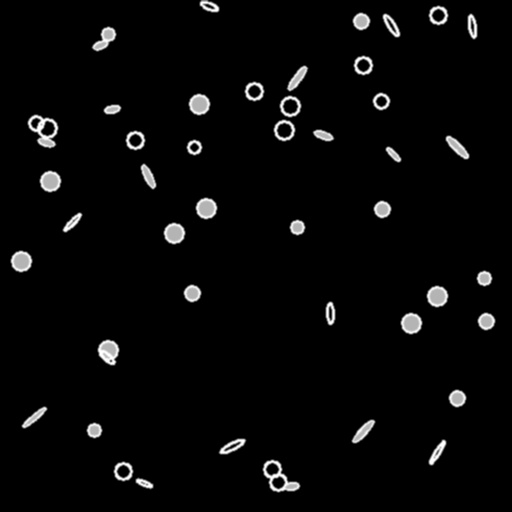pseudomonas: (444, 134, 470, 160), (285, 64, 309, 92), (351, 418, 375, 444), (21, 406, 47, 428), (219, 437, 245, 455), (428, 439, 446, 465), (382, 13, 400, 37), (140, 163, 156, 189), (62, 212, 82, 232), (98, 348, 116, 366), (385, 146, 401, 162), (199, 0, 219, 12), (467, 15, 477, 37), (135, 477, 153, 489), (37, 136, 55, 148), (314, 129, 332, 141), (92, 39, 108, 51), (104, 104, 120, 114), (283, 482, 299, 490), (327, 303, 333, 323)
synechocystis: (428, 287, 446, 305), (99, 341, 117, 359), (281, 97, 299, 115), (402, 314, 420, 332), (165, 224, 183, 242), (38, 119, 56, 137), (275, 121, 293, 139), (12, 252, 30, 270), (197, 199, 215, 217), (41, 172, 59, 190), (190, 95, 208, 113), (264, 461, 280, 477), (355, 57, 371, 73), (127, 132, 143, 148), (430, 7, 446, 23), (115, 463, 131, 479), (246, 83, 262, 99), (270, 474, 286, 490), (185, 286, 199, 300), (479, 314, 493, 328), (450, 391, 464, 405), (29, 116, 43, 130), (375, 202, 389, 216), (374, 94, 388, 108), (354, 14, 368, 28), (102, 28, 114, 40), (478, 272, 490, 284), (88, 424, 100, 436), (188, 141, 200, 153), (291, 221, 303, 233)
